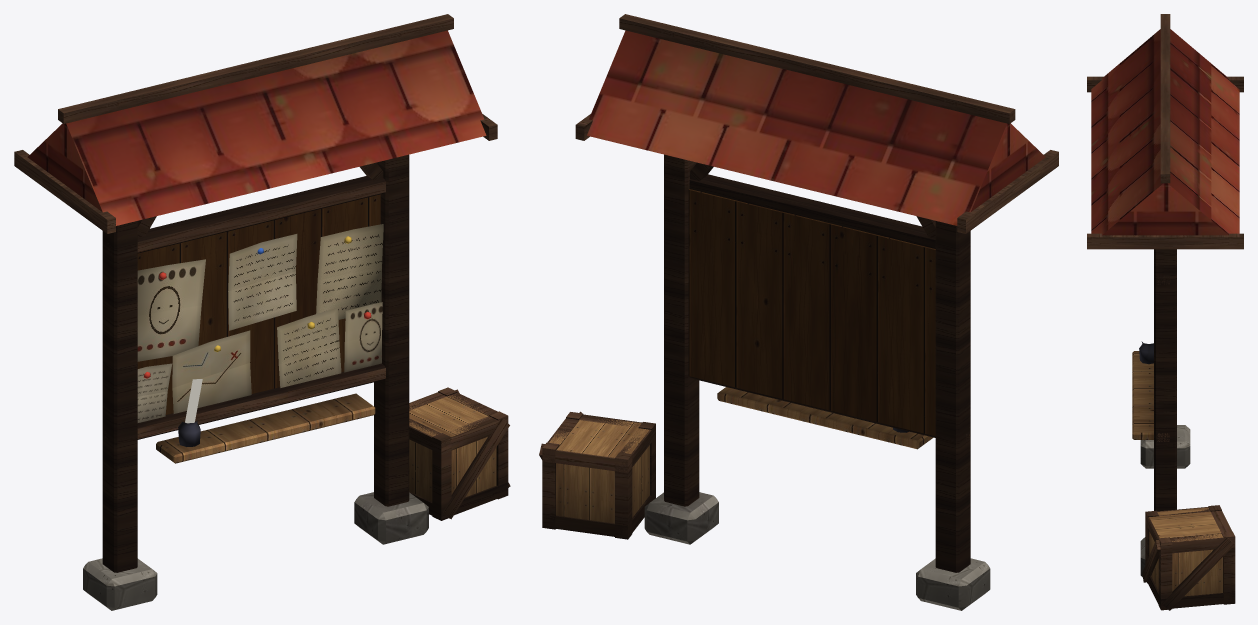
Rendered from town_bounty_board.glb.
The picture shows the model from 3 angles, left to right: view 1: azimuth 30°, elevation 25°; view 2: azimuth 150°, elevation 25°; view 3: azimuth 270°, elevation 25°; orthographic projection. The views are drawn at different scales.
Parts seen in each view (by area): view 1: town_bounty_board; view 2: town_bounty_board; view 3: town_bounty_board.
Boxes of the visible parts, <box> form: town_bounty_board: <box>14,14,510,610</box>; town_bounty_board: <box>539,14,1058,610</box>; town_bounty_board: <box>1087,14,1243,610</box>.
Size of the model in its own units: 2.64 by 2.82 by 0.95.
6 materials, 5 textured.
